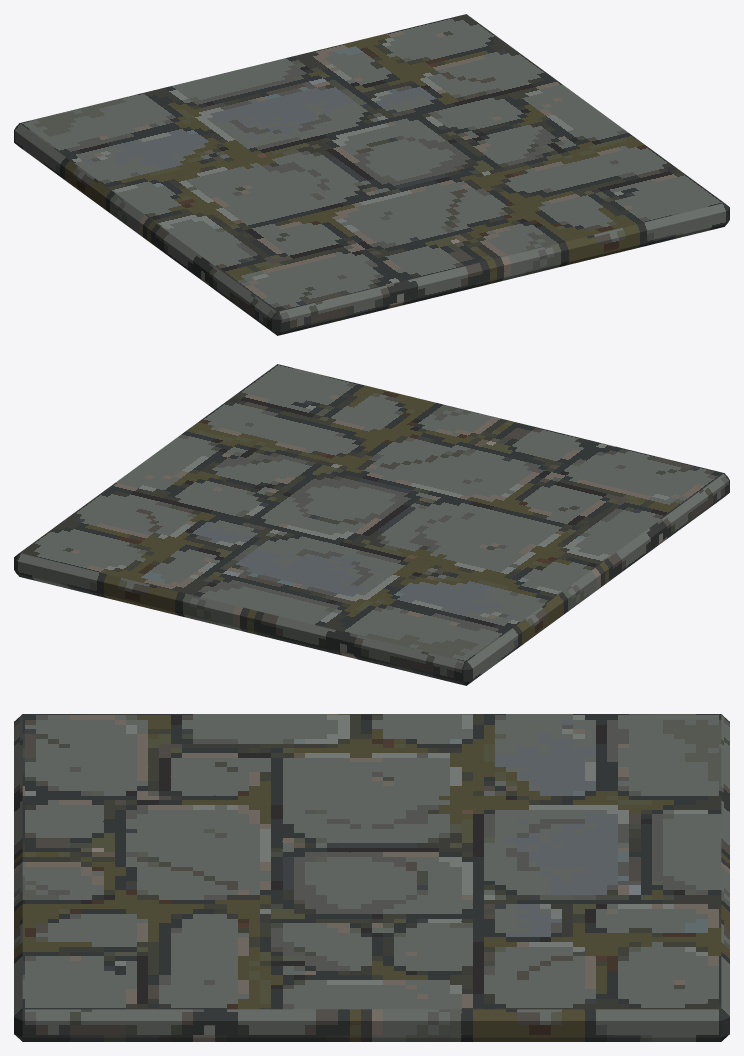
File: topo_b.fbx
3 views of the same model, one above another, from view 1: azimuth 30°, elevation 25°; view 2: azimuth 150°, elevation 25°; view 3: azimuth 270°, elevation 25° (orthographic). The views are drawn at different scales.
Visible parts, largest first — view 1: pedreira_topo_b; view 2: pedreira_topo_b; view 3: pedreira_topo_b.
Boxes of the visible parts, x1,y1,x2,y2 form: pedreira_topo_b: (14, 14, 729, 335); pedreira_topo_b: (14, 364, 729, 685); pedreira_topo_b: (14, 714, 729, 1041).
Size of the model in its own units: 100 by 5 by 100.
1 material, 1 textured.
